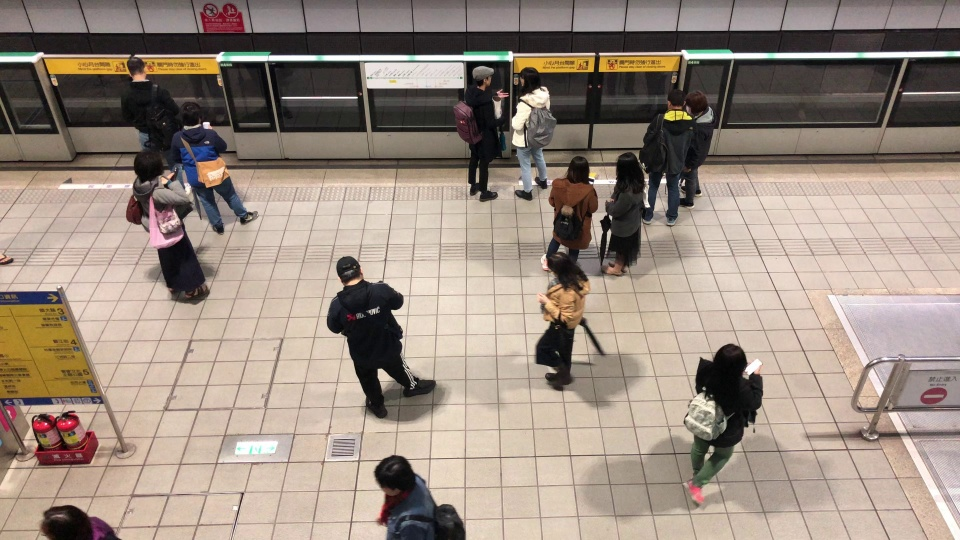person_head: (374, 455, 421, 504), (40, 505, 89, 540), (712, 343, 750, 387), (546, 248, 585, 290), (612, 152, 646, 195), (133, 147, 164, 184), (335, 256, 361, 293), (516, 67, 545, 98), (561, 156, 590, 185), (471, 65, 493, 93), (180, 101, 202, 127), (687, 91, 706, 121), (126, 56, 146, 84), (667, 88, 685, 111)
person_vbox: (324, 256, 437, 420), (681, 343, 763, 508), (130, 146, 213, 302), (176, 102, 258, 237), (117, 57, 190, 196), (533, 246, 587, 390), (541, 155, 599, 279), (641, 87, 690, 226), (463, 65, 510, 202), (373, 454, 439, 540), (604, 152, 646, 276), (511, 67, 550, 198), (680, 91, 715, 210), (40, 503, 119, 540)
